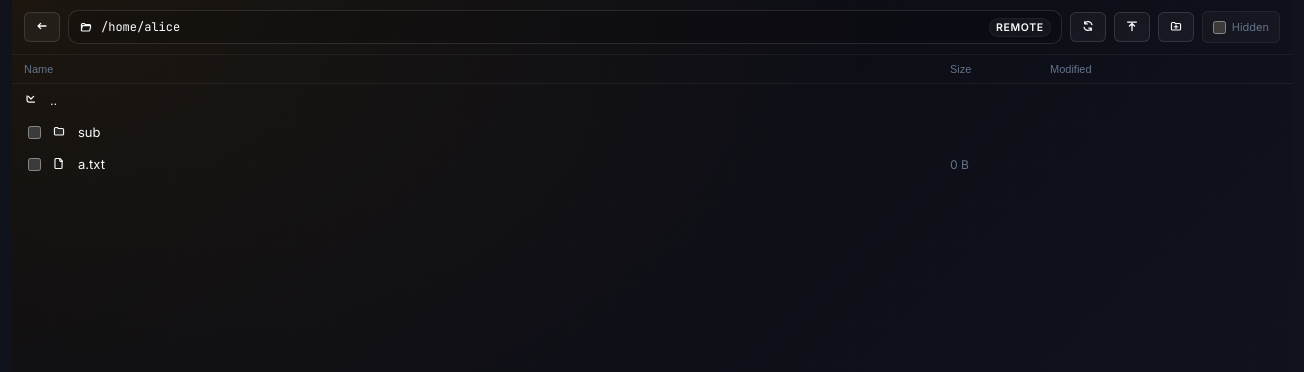
Test: FileBrowser › drags every selected remote entry as one payload
The image size is (1304, 372).
Click the checkbox named "Select a.txt". click: (34, 164)
box: [28,158,41,170]
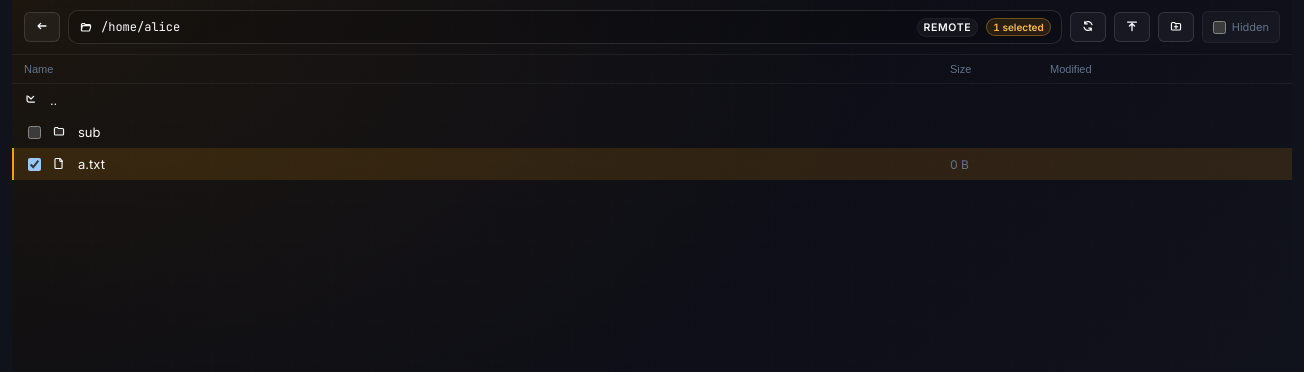
Click the checkbox named "Select sub". click: (34, 132)
box: [28,126,41,138]
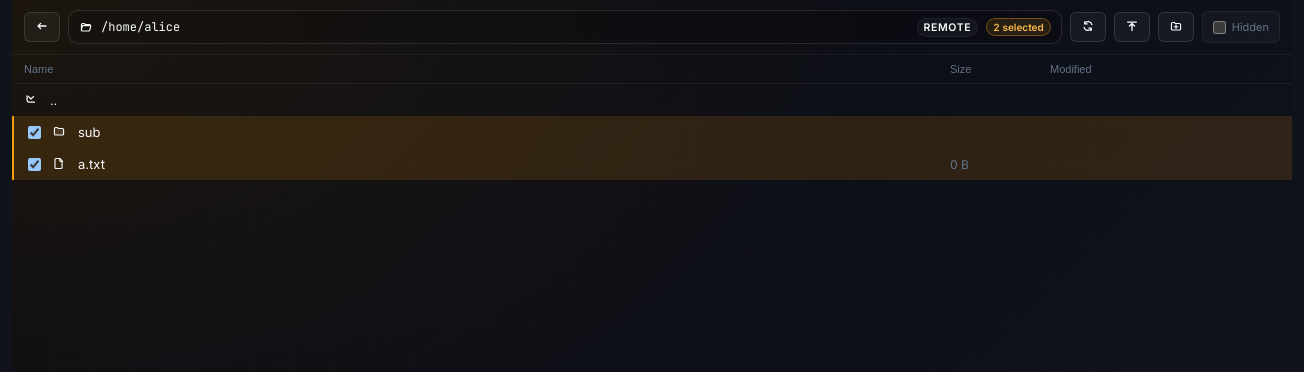
Expected: the option named "Select a.txt" is shown, [12,148,1292,180]
Result: the text "2 selected" is shown at [986,18,1051,36]
